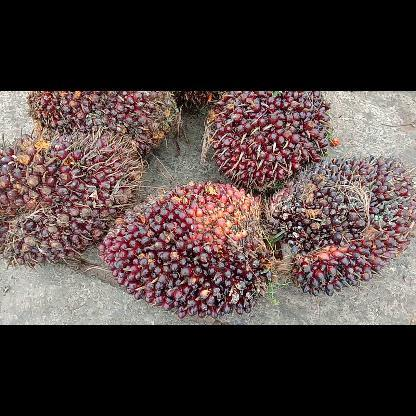Kurang masak: (94, 176, 282, 322), (264, 150, 414, 298), (0, 129, 144, 269), (200, 90, 336, 192), (22, 90, 180, 156)
